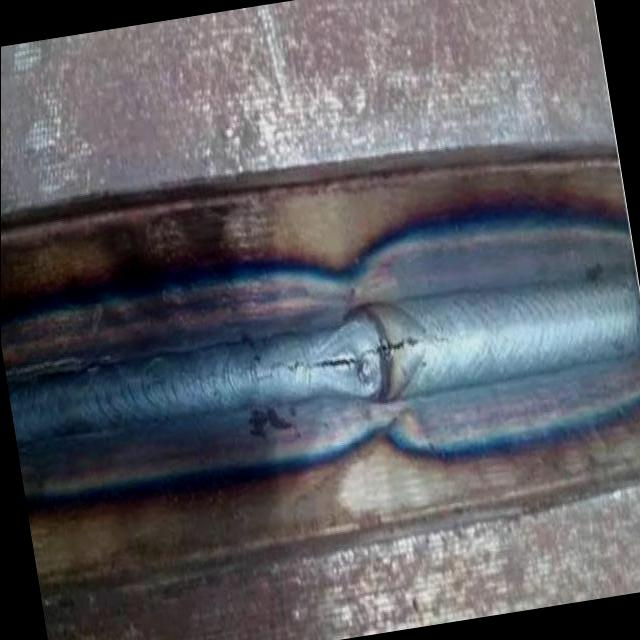defect: (251, 334, 424, 390)
